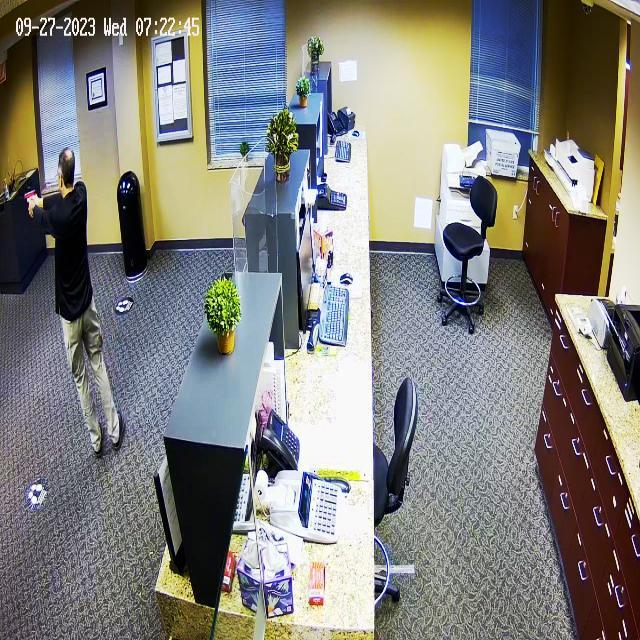Gun: (20, 186, 42, 226)
